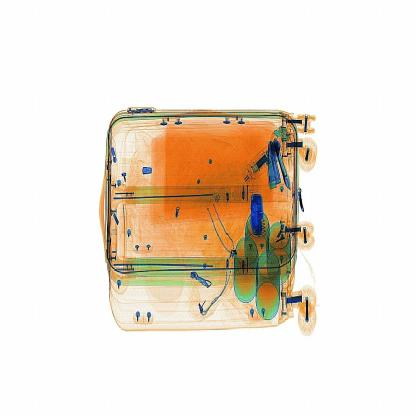scissors: (247, 187, 270, 241)
